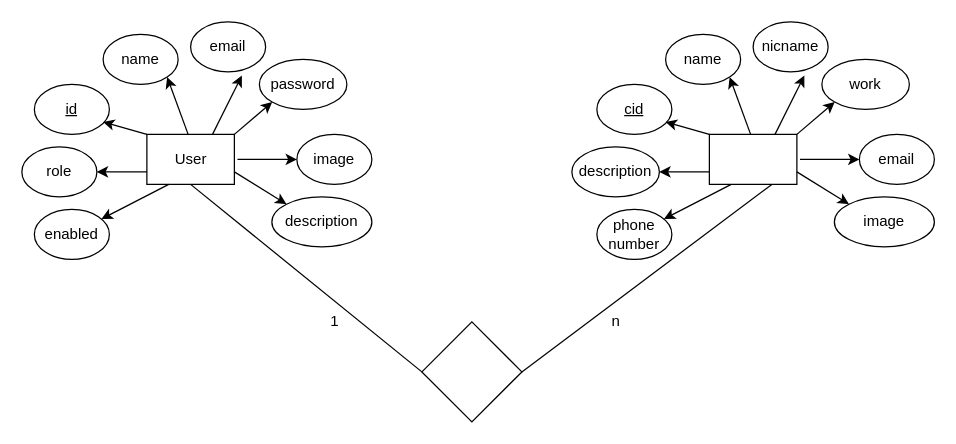
Some shapes in this 956 by 444 pixel diagram are drawn without their labels. Here are the shapes that lost their labels. From the top down, the box of each, then its label:
(708, 133, 797, 184): CONTACT
(421, 321, 522, 422): has
